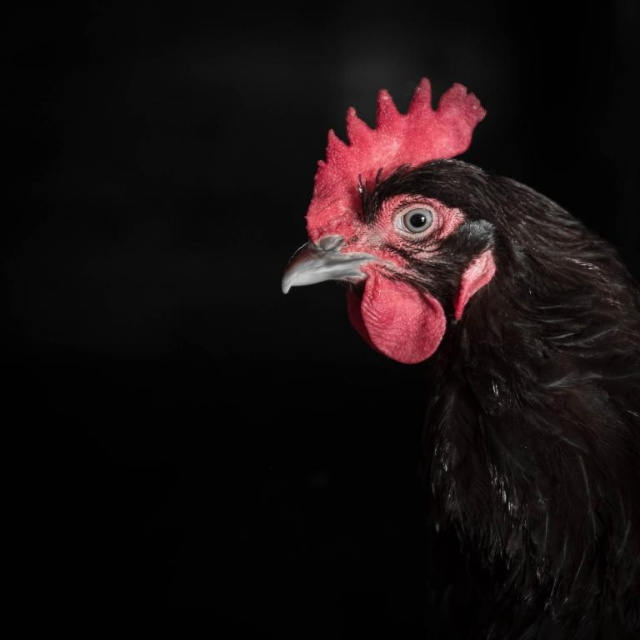Chicken: (281, 77, 640, 640)
